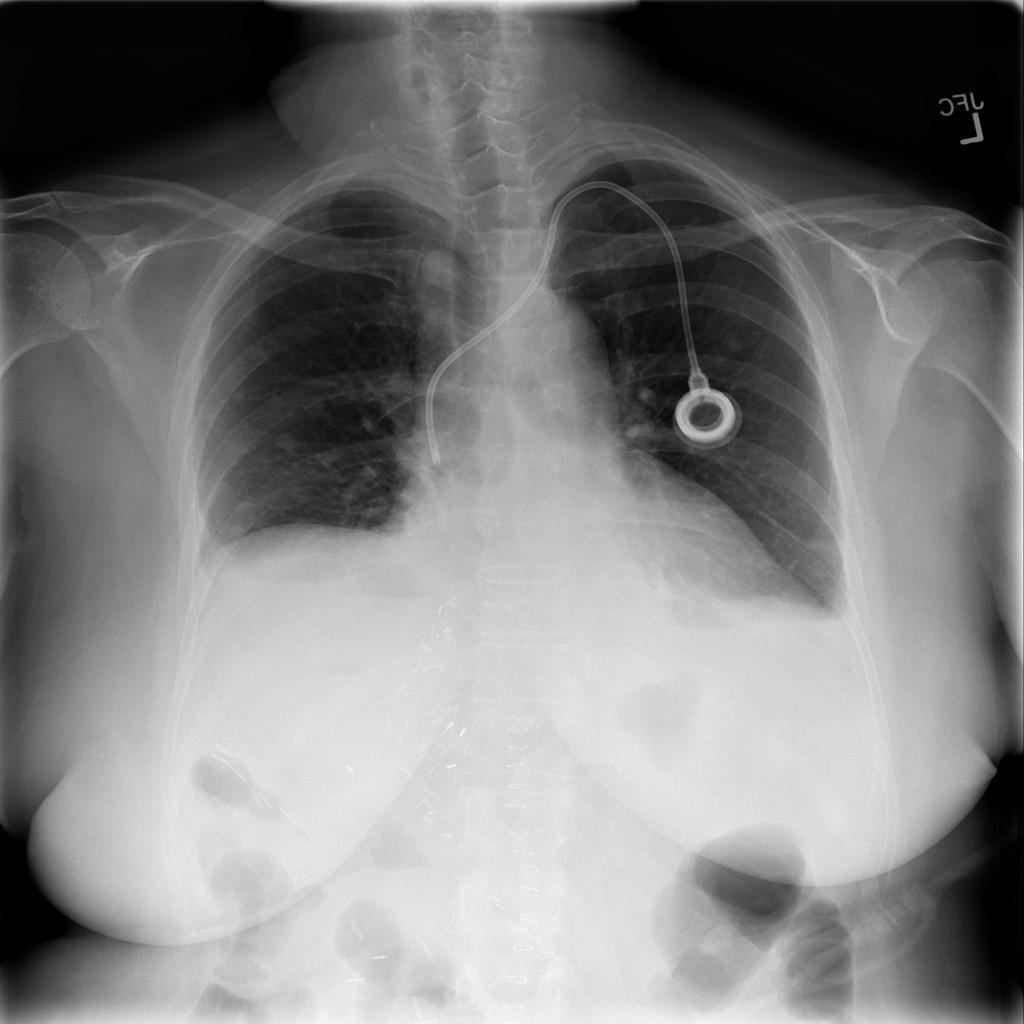nodule: (402, 236, 476, 305), (260, 420, 310, 467), (224, 381, 256, 409)
